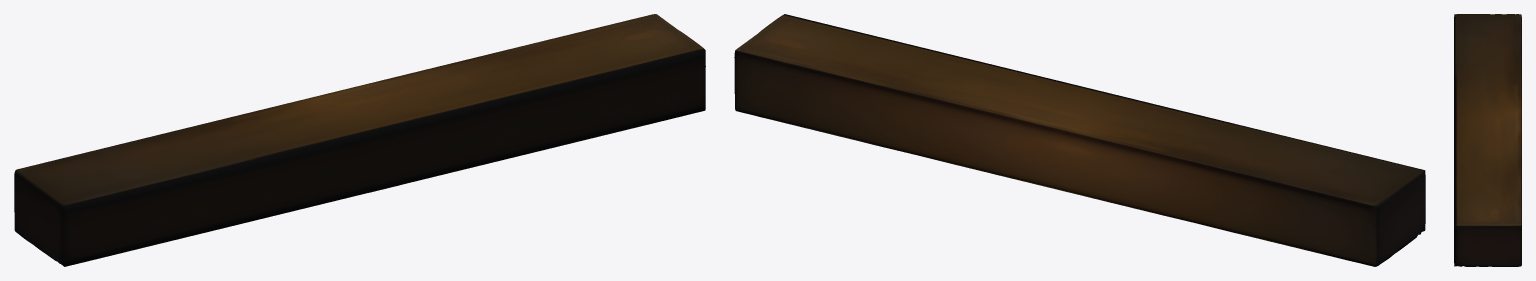
Rendered from base_basic_shaded.fbx.
3 views of the same model, side by side, from view 1: azimuth 30°, elevation 25°; view 2: azimuth 150°, elevation 25°; view 3: azimuth 270°, elevation 25° (orthographic). The views are drawn at different scales.
Parts seen in each view (by area): view 1: model; view 2: model; view 3: model.
Part boxes in pixels (x1,y1,x2,y2): model: (14,14,705,266); model: (734,14,1425,266); model: (1454,14,1521,266).
Size of the model in its own units: 191 by 17.51 by 25.82.
